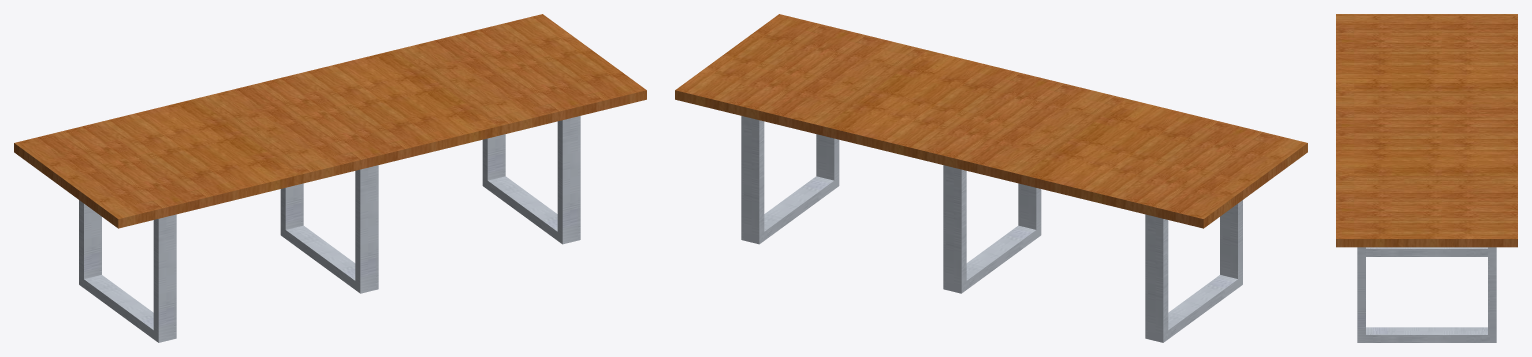
Rendered from mesa1_8.glb.
3 views of the same model, side by side, from view 1: azimuth 30°, elevation 25°; view 2: azimuth 150°, elevation 25°; view 3: azimuth 270°, elevation 25° (orthographic). The views are drawn at different scales.
Visible parts, largest first — view 1: object 1, Composant#1 (×3); view 2: object 1, Composant#1 (×3); view 3: object 1, Composant#1 (×2).
Part boxes in pixels (x1,y1,x2,y2): object 1: (14,14,646,228); Composant#1 (×3): (79,116,580,342); object 1: (675,14,1307,228); Composant#1 (×3): (741,116,1242,342); object 1: (1336,14,1517,247); Composant#1 (×2): (1357,247,1496,342).
Bounding box in the file's own units: 2.93 × 0.7708 × 1.
Materials: 2 (2 with a texture image).
